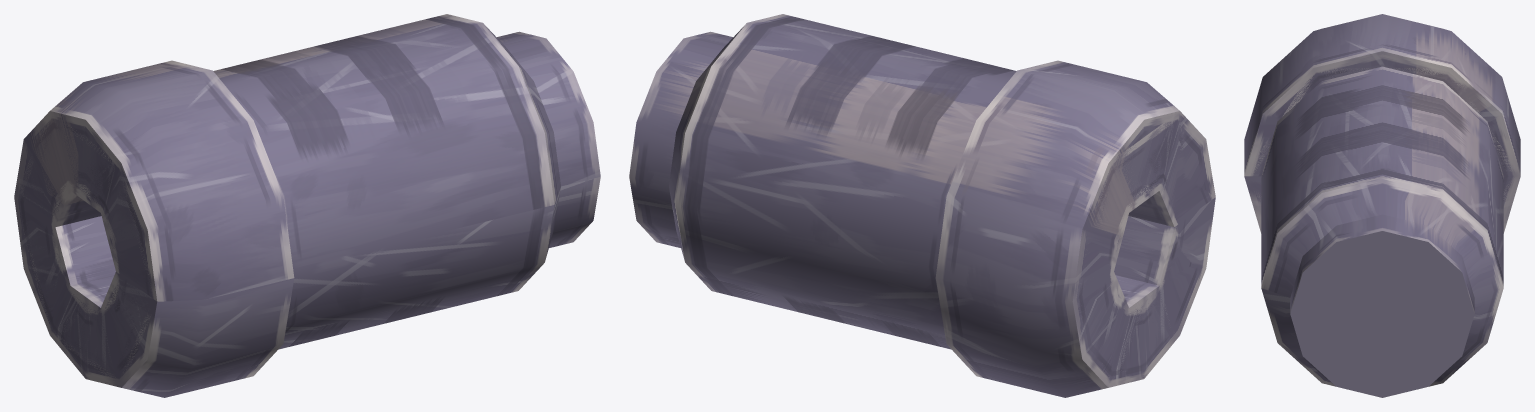
The model's file is att_compensator.bundle.fbx.
3 views of the same model, side by side, from view 1: azimuth 30°, elevation 25°; view 2: azimuth 150°, elevation 25°; view 3: azimuth 270°, elevation 25° (orthographic). The views are drawn at different scales.
Visible parts, largest first — view 1: att_compensator, att_compensator_low; view 2: att_compensator, att_compensator_low; view 3: att_compensator, att_compensator_low.
Part boxes in pixels (left/top/right/bottom): att_compensator: left=14, top=14, right=600, bottom=397; att_compensator_low: left=15, top=111, right=156, bottom=386; att_compensator: left=629, top=14, right=1215, bottom=397; att_compensator_low: left=1073, top=112, right=1215, bottom=386; att_compensator: left=1244, top=14, right=1520, bottom=397; att_compensator_low: left=1245, top=68, right=1519, bottom=386.
Size of the model in its own units: 0.2175 by 0.1334 by 0.1334.
1 material, 1 textured.
